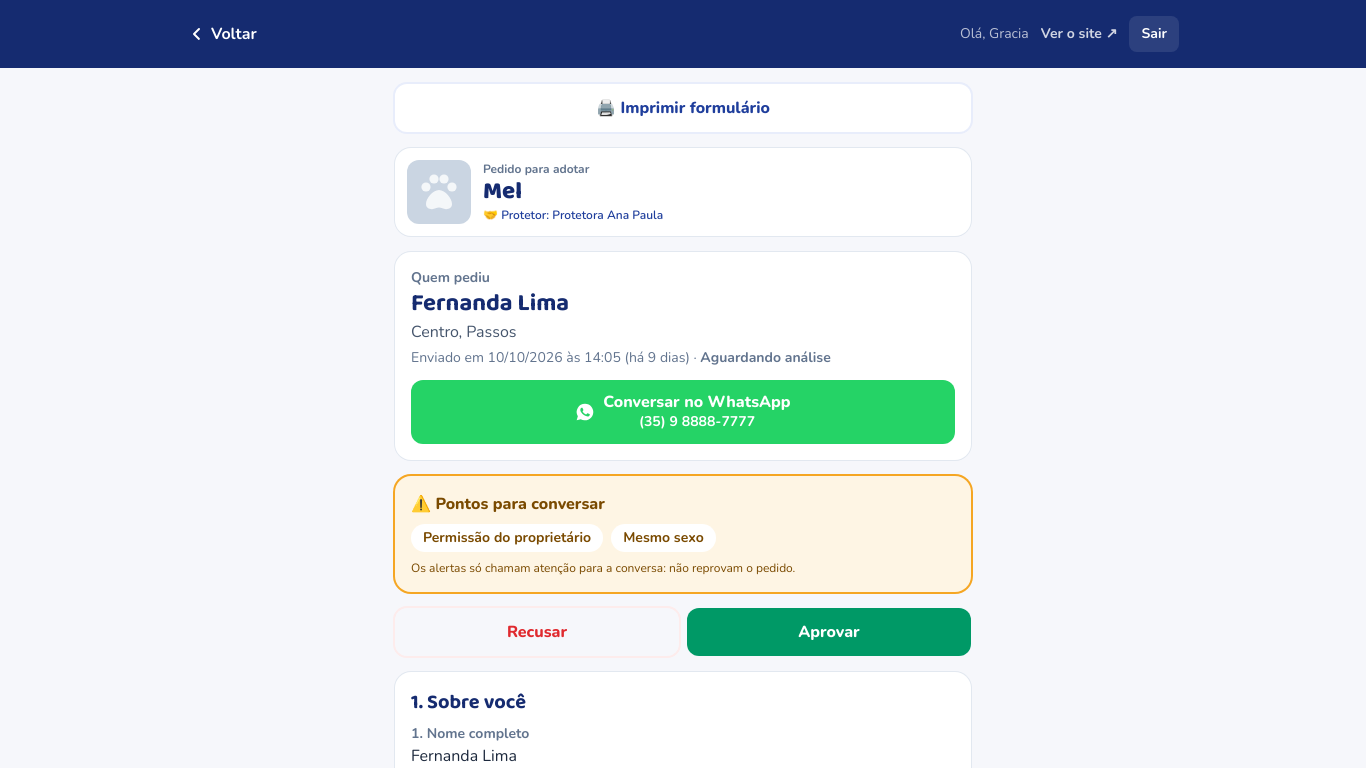
Test case: Análise do pedido (T28) › conflito na decisão aparece no modal
This screenshot has width=1366, height=768.
Click the button "Aprovar" at (829, 632), box 687,608 -> 971,656
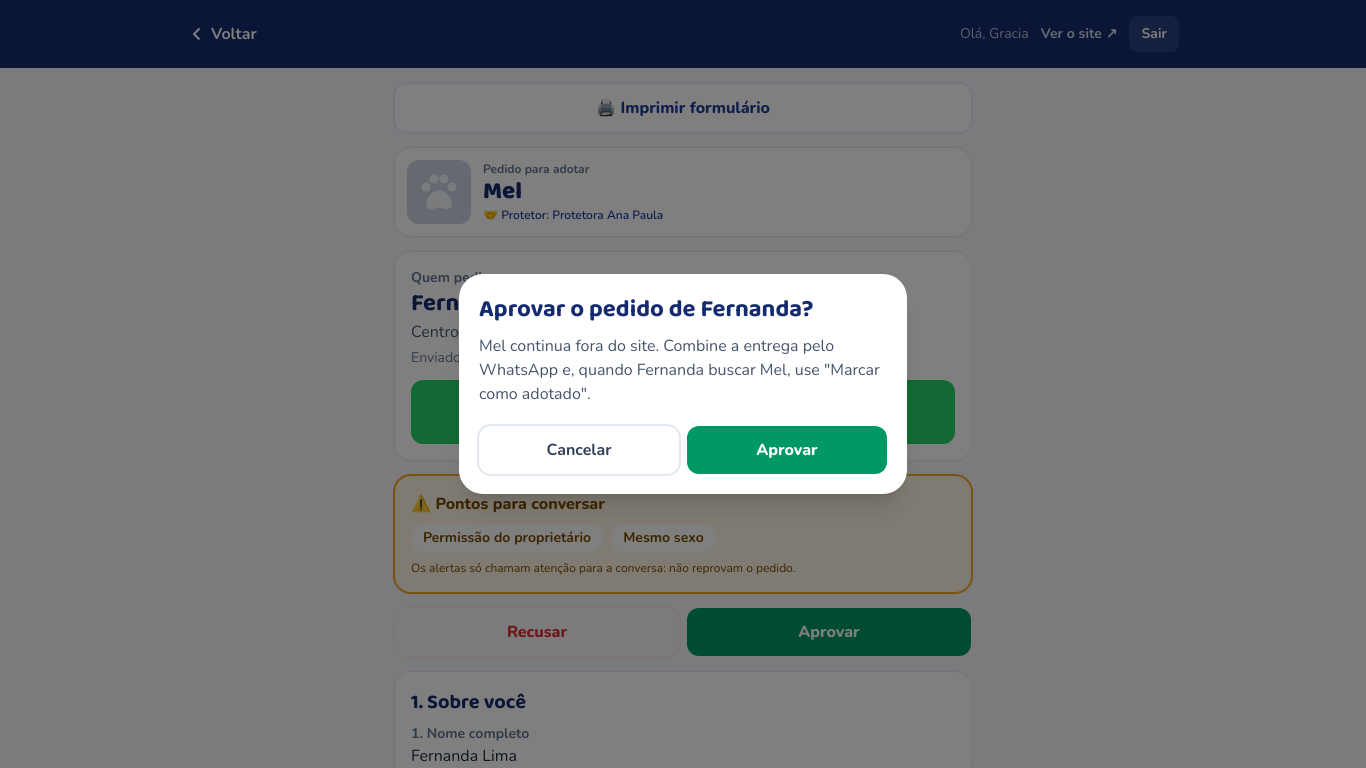
Click the button "Aprovar" at (787, 450), box 687,426 -> 887,474
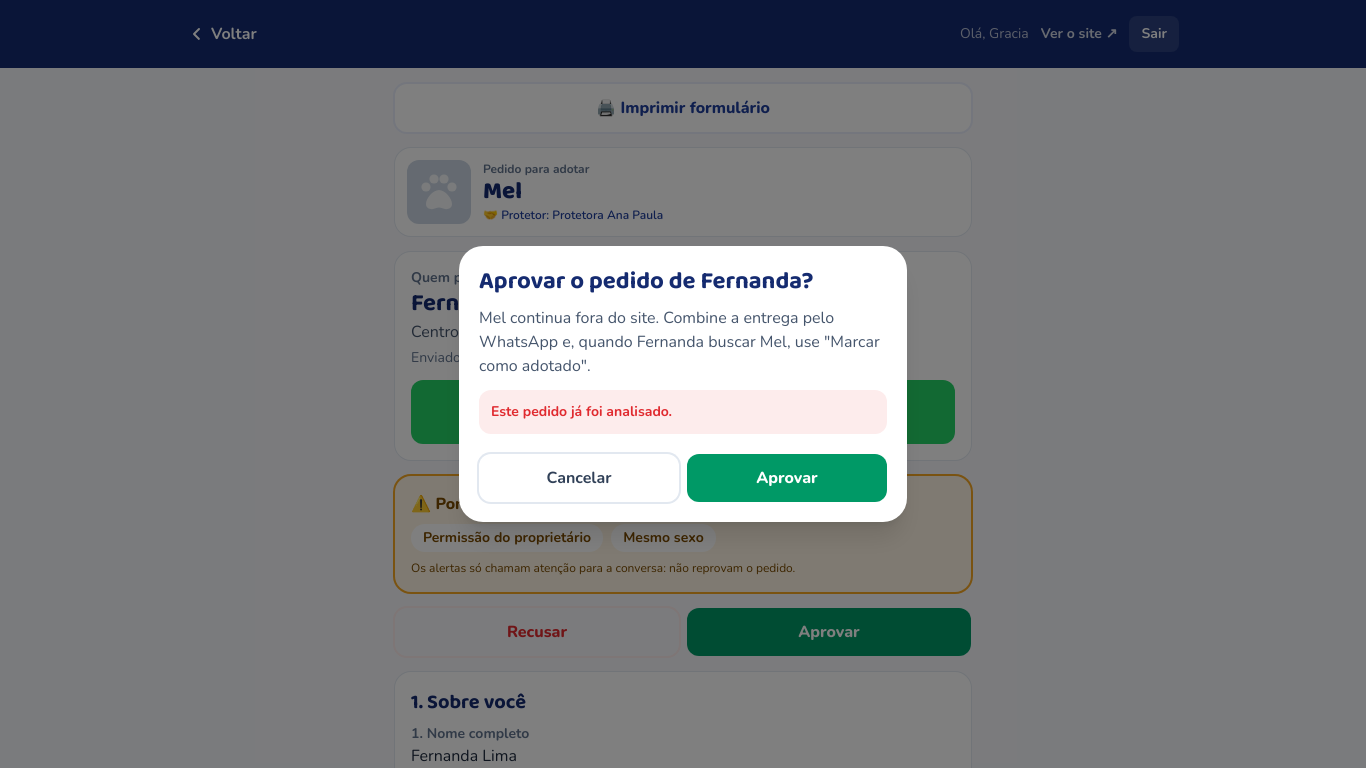
Now the text "Este pedido já foi analisado." is shown, box 479,390 -> 887,434
